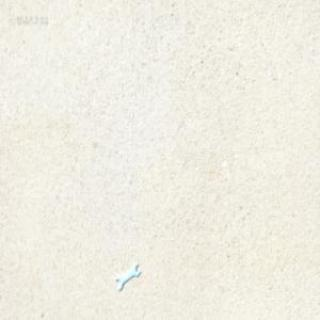Wrenchtrack_idkeyframe: (114, 260, 139, 291)
